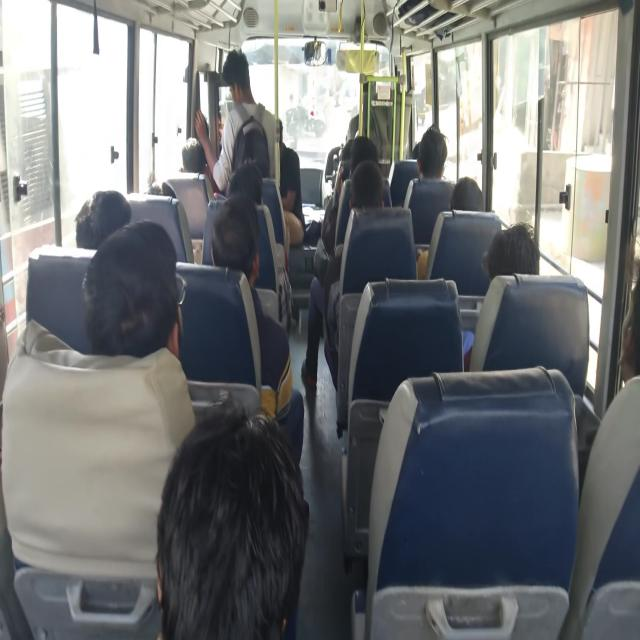person: (183, 420, 368, 640), (108, 238, 172, 370), (258, 117, 305, 246), (65, 204, 150, 265), (199, 206, 263, 281), (605, 275, 640, 374), (484, 226, 534, 290), (348, 174, 394, 238), (422, 140, 465, 202), (225, 50, 260, 114), (446, 175, 499, 208), (355, 132, 381, 186), (182, 137, 216, 175), (230, 172, 257, 218), (236, 157, 270, 189), (146, 169, 167, 210), (412, 142, 432, 166)
